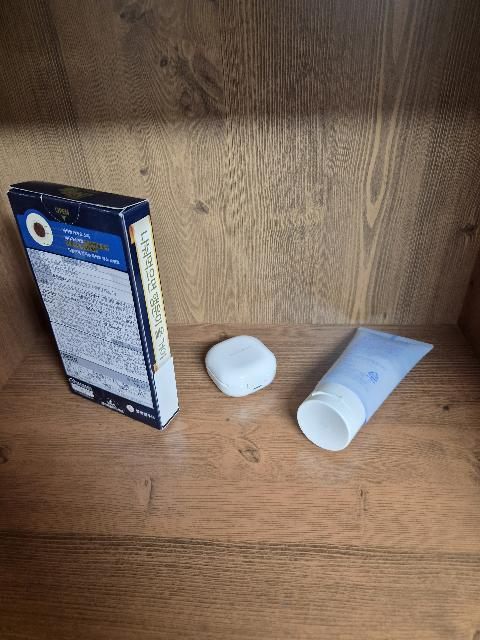earphone_case: (205, 335, 277, 397)
handcream: (297, 327, 434, 451)
pepero: (7, 180, 180, 430)
